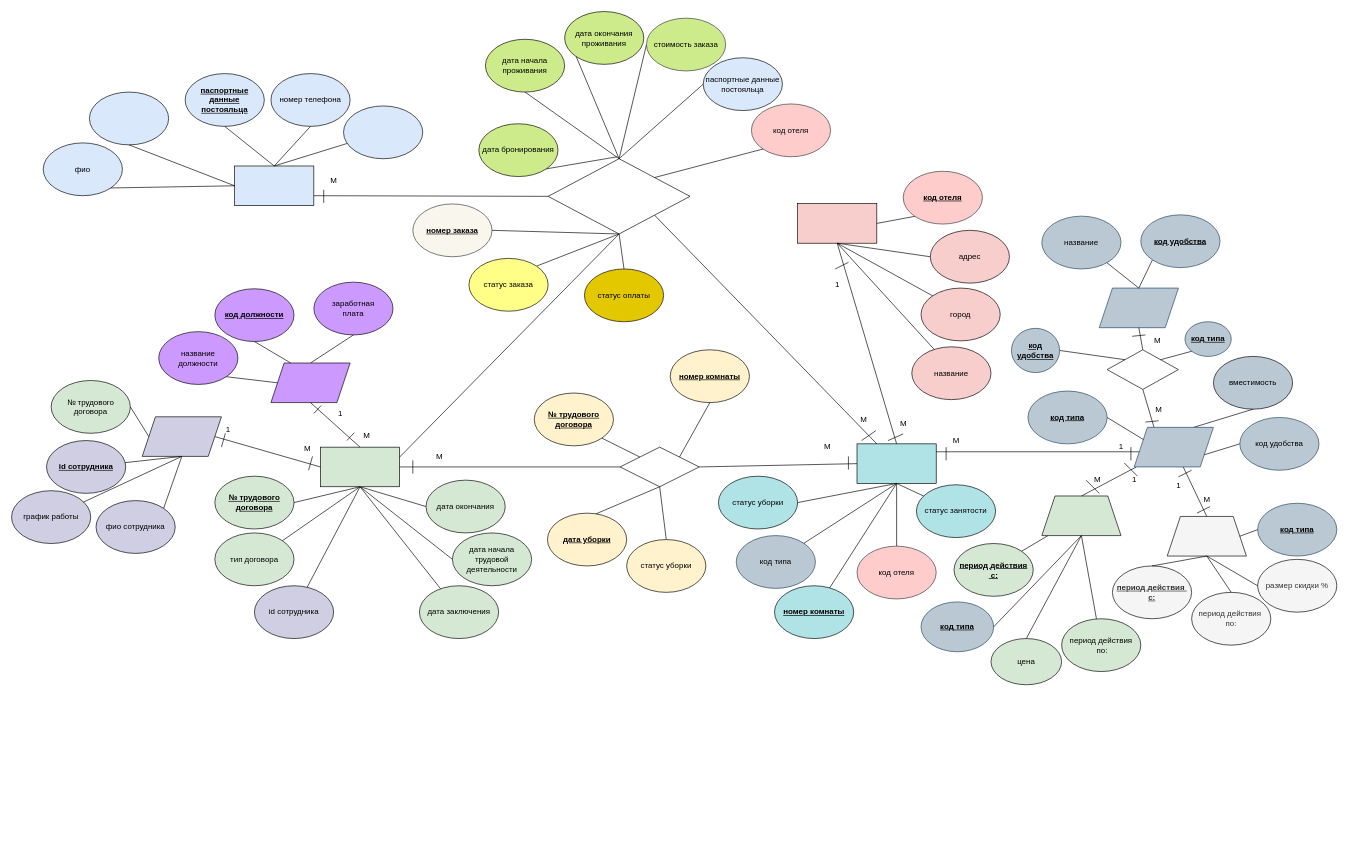
The diagram is 1348 pixels wide and 855 high, and some of its shapes have lost their labels. The centre of each missing label's shape, as x and y in pixels:
"e-mail" belongs at point (383, 132).
"адрес постоянного проживания" belongs at point (129, 118).
"акции" belongs at point (1206, 536).
"должность" belongs at point (310, 382).
"заказ на проживание" belongs at point (618, 196).
"имеет" belongs at point (1142, 369).
"комната" belongs at point (896, 463).
"отель" belongs at point (837, 223).
"постоялец" belongs at point (274, 185).
"сотрудник" belongs at point (181, 436).
"тип комнаты" belongs at point (1173, 447).
"трудовой договор" belongs at point (360, 466).
"уборка" belongs at point (659, 466).
"удобства" belongs at point (1138, 307).
"цена комнаты за сутки" belongs at point (1081, 515).
